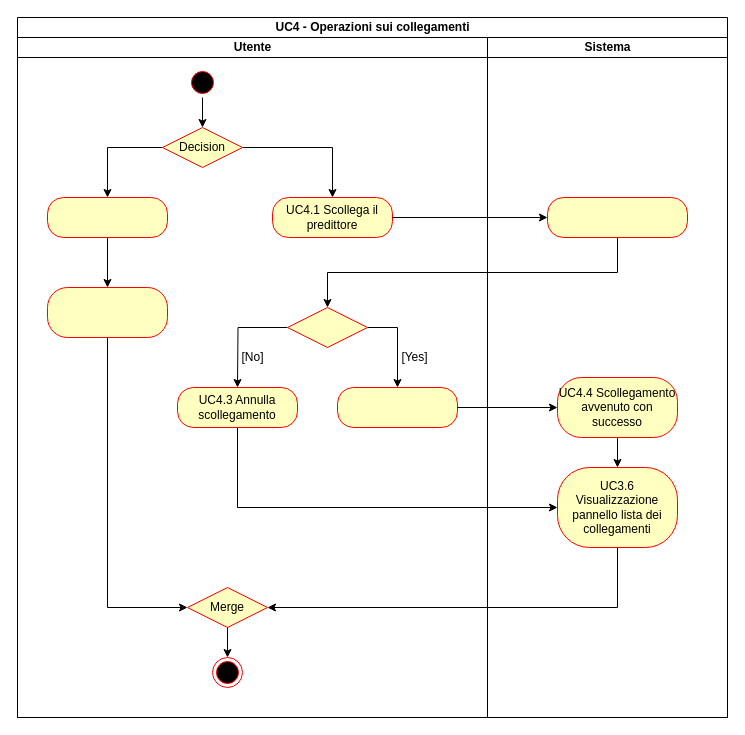
Some shapes in this 745 by 735 pixel diagram are drawn without their labels. The shapes that lost their labels are listed below. From the top down, each one's centre as x and y in pixels, then its label:
At (107,217): "UC4.5 Modifica il collegamento".
At (617,217): "UC4.2 Procedi con lo scollegamento".
At (107,312): "UC3 Collega il predittore al flusso dati".
At (327,327): "Condition".
At (397,407): "UC4.3 Conferma scollegamento".
